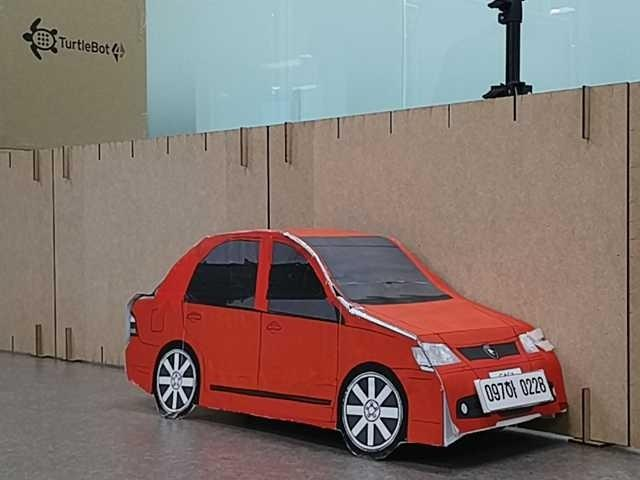car: (123, 226, 570, 460)
id: (475, 371, 554, 412)
